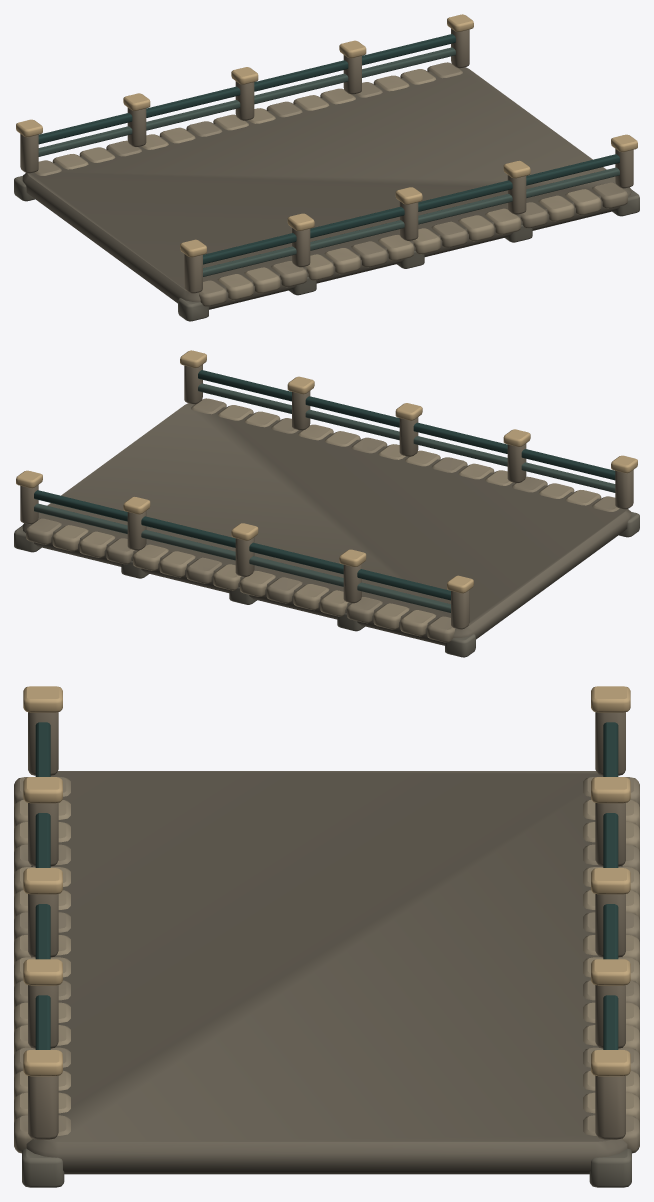
The model's file is valley_bridge.glb.
The picture shows the model from 3 angles, top to bottom: view 1: azimuth 30°, elevation 25°; view 2: azimuth 150°, elevation 25°; view 3: azimuth 270°, elevation 25°; orthographic projection. The views are drawn at different scales.
Visible parts, largest first — view 1: Valley_Bridge; view 2: Valley_Bridge; view 3: Valley_Bridge.
Part boxes in pixels (x1=…): Valley_Bridge: x1=14, y1=14, x2=639, y2=321; Valley_Bridge: x1=14, y1=350, x2=639, y2=657; Valley_Bridge: x1=14, y1=686, x2=639, y2=1187.
Size of the model in its own units: 9.16 by 1.38 by 6.33.
